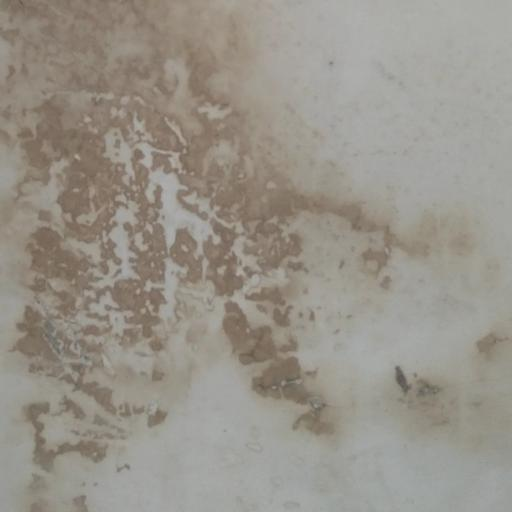peeling: (0, 0, 382, 459), (384, 323, 512, 475)
